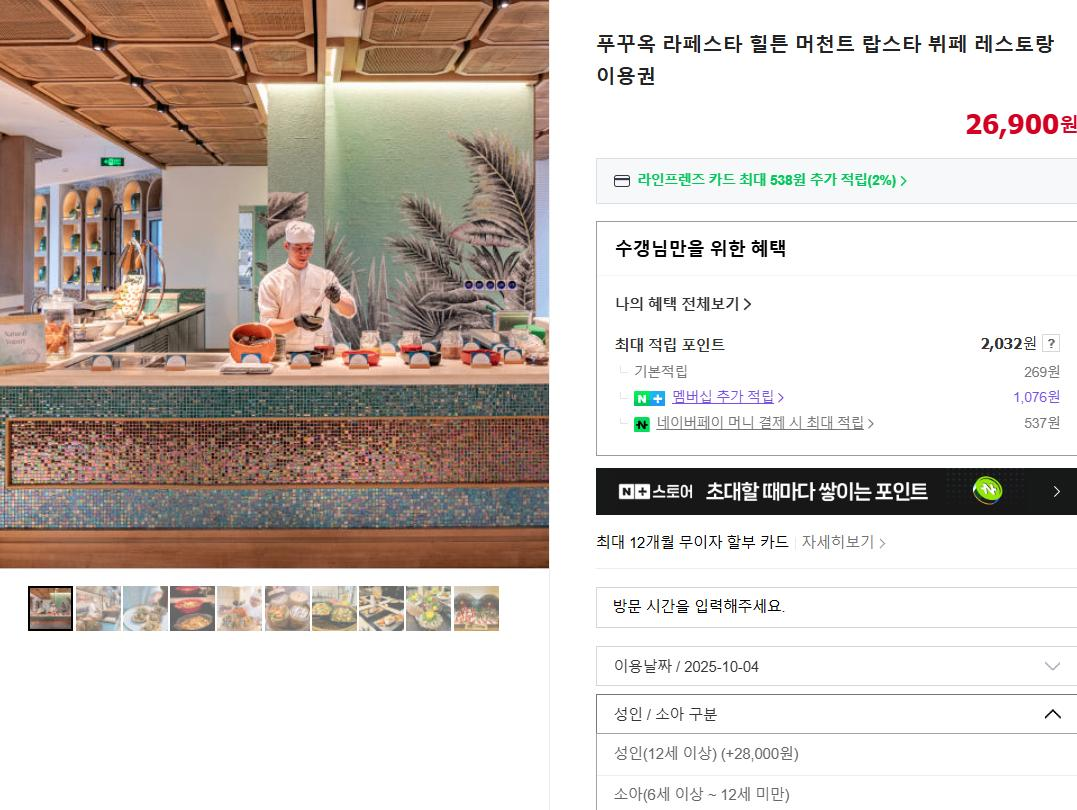button: (599, 586, 1077, 629), (599, 774, 1077, 810), (600, 738, 1077, 773), (650, 409, 895, 438), (800, 521, 900, 556), (666, 383, 791, 410), (358, 586, 405, 631), (219, 586, 263, 633), (77, 586, 121, 632), (407, 586, 453, 630), (313, 585, 356, 632), (29, 585, 73, 630), (123, 587, 169, 630), (455, 586, 499, 630), (172, 586, 215, 631), (268, 586, 309, 633)
checkbox: (598, 695, 1077, 735), (598, 646, 1077, 684)
popup: (590, 464, 1077, 518)
